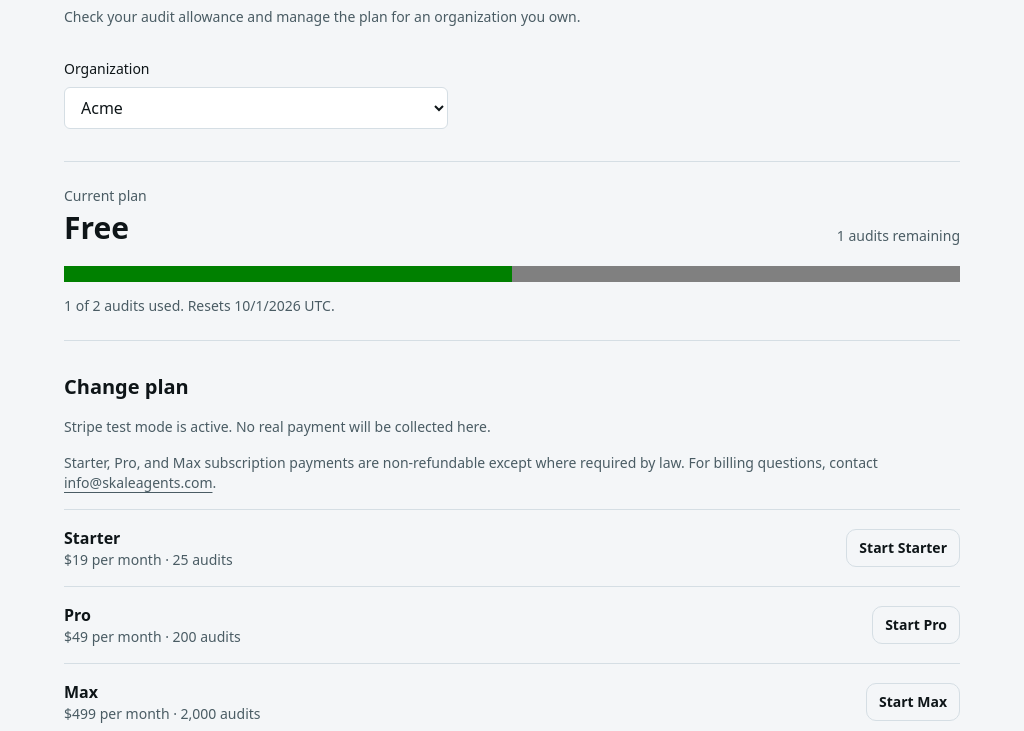
Test: rejects untrusted Checkout destination https://evil.example/pay
Click the button "Start Starter" at (903, 548), box [846,529,960,567]
(page scrolled)
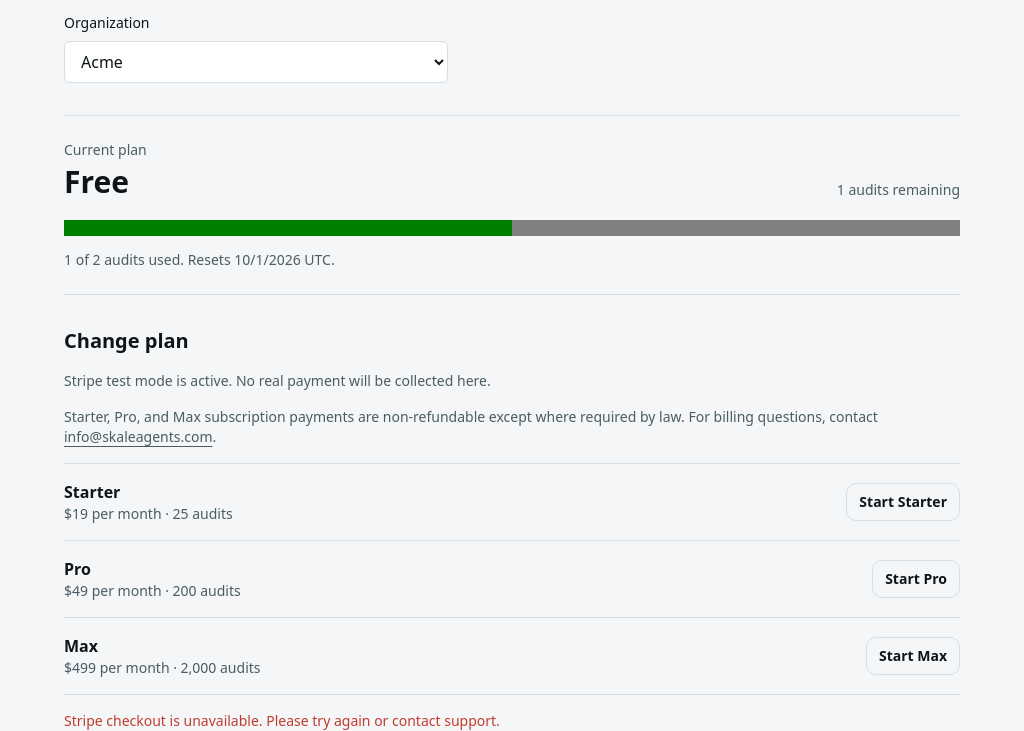
Now the message shows "Stripe checkout is unavailable", box [64,711,500,730]
